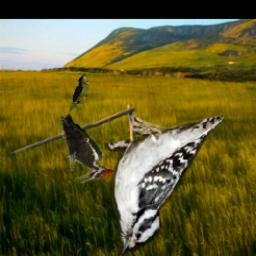Cuckoo: (68, 74, 89, 117)
Woodpecker: (103, 115, 224, 256), (60, 113, 119, 183)
